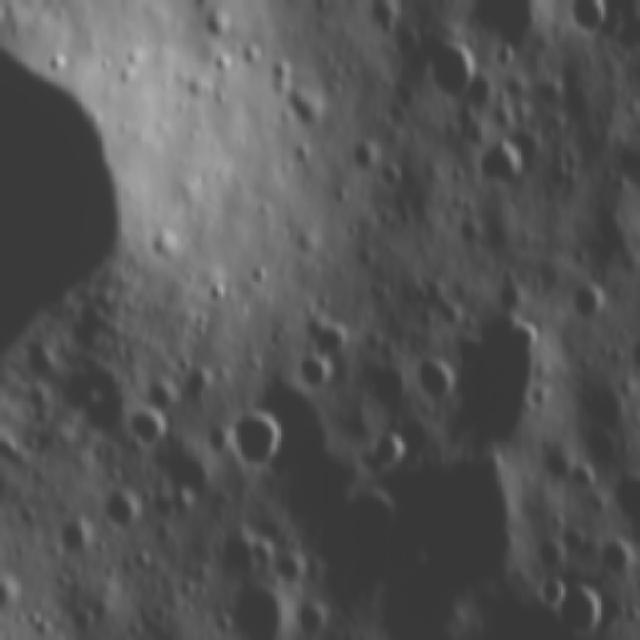crater: (534, 568, 608, 638), (427, 31, 487, 107), (219, 404, 284, 473), (162, 448, 222, 510), (221, 583, 284, 640), (476, 132, 532, 194), (282, 72, 328, 139), (281, 352, 345, 396), (410, 353, 461, 402), (98, 480, 140, 534), (494, 310, 543, 356), (124, 405, 170, 450), (361, 426, 408, 469), (528, 569, 574, 611), (568, 278, 610, 324), (569, 0, 611, 46), (262, 552, 308, 594), (52, 518, 94, 558), (600, 538, 637, 578), (532, 533, 568, 573), (482, 39, 516, 73), (352, 142, 380, 183), (288, 610, 324, 638), (562, 528, 590, 557)
